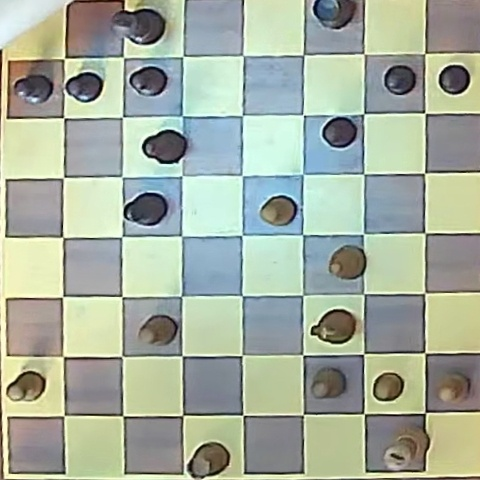black-bishop: (142, 129, 186, 164), (124, 192, 167, 226)
black-king: (112, 8, 164, 45)
black-pawn: (14, 74, 53, 104), (66, 71, 103, 102), (129, 66, 167, 96), (322, 117, 357, 147), (438, 64, 470, 94), (384, 65, 417, 94)
black-rook: (313, 0, 356, 29)
white-bishop: (328, 246, 366, 280)
white-king: (383, 426, 427, 471)
white-knight: (311, 310, 355, 345)
white-pawn: (137, 315, 176, 346), (6, 371, 45, 402), (260, 195, 296, 226), (311, 368, 345, 399), (437, 374, 468, 404), (373, 373, 403, 401)
white-rook: (188, 442, 228, 478)
